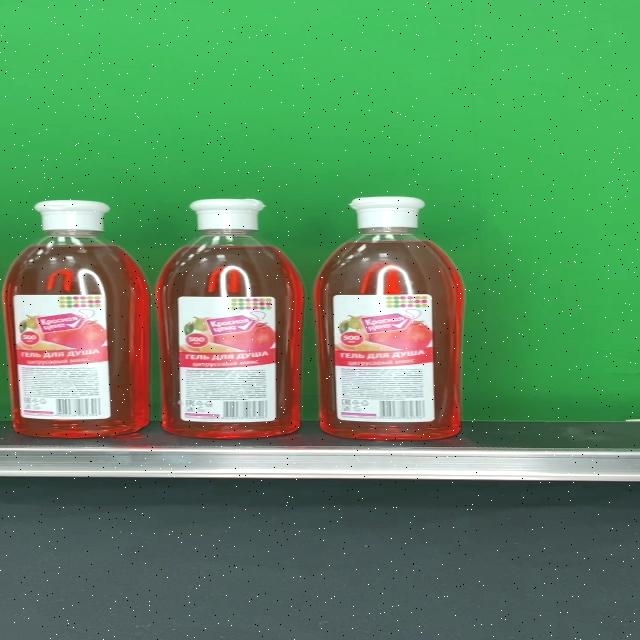Bottle: (316, 196, 464, 440), (156, 197, 304, 439), (5, 200, 150, 438)
Cap: (188, 198, 266, 230), (349, 196, 426, 228), (34, 199, 109, 231)
